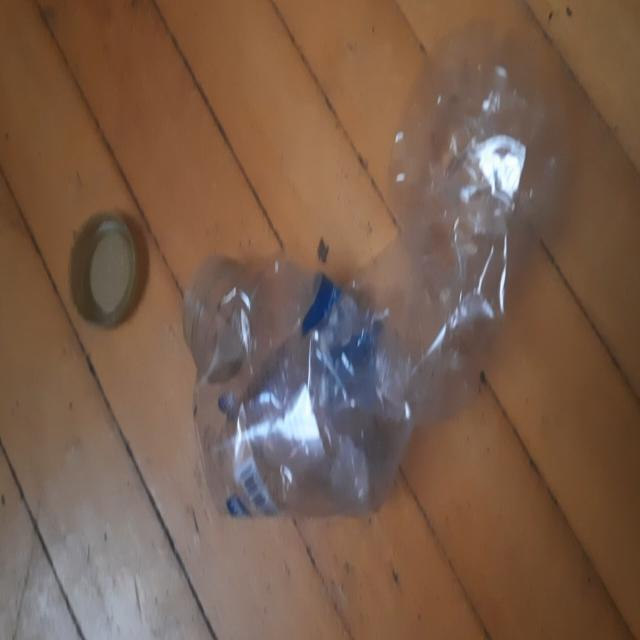Plastic: (185, 46, 542, 519), (68, 212, 149, 332)
